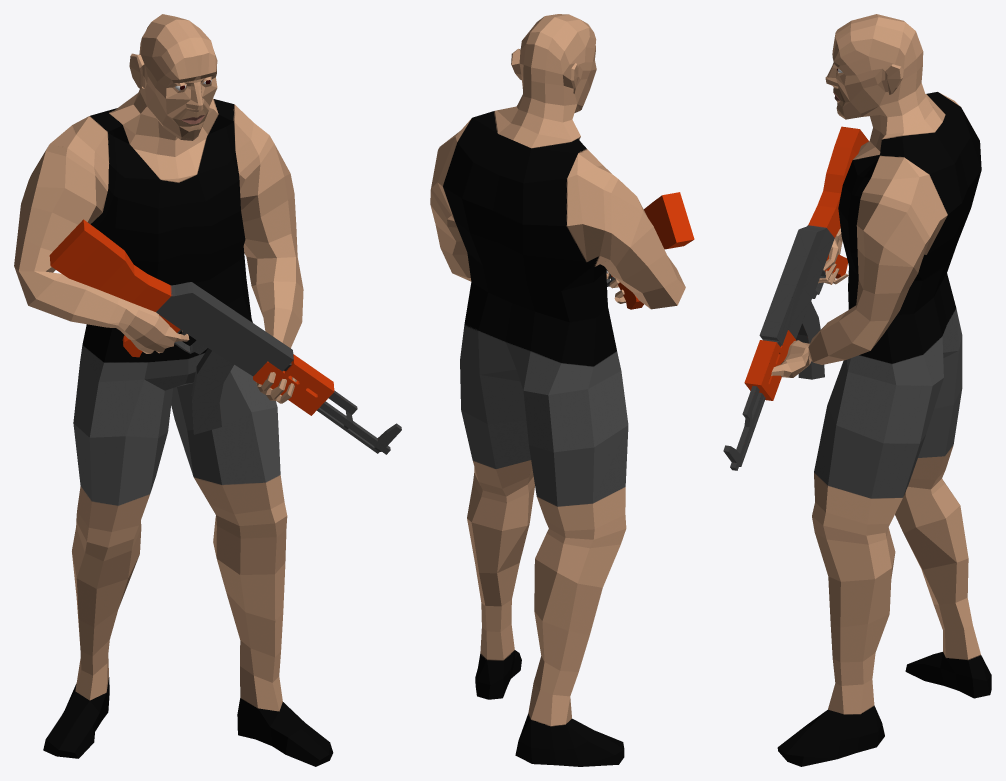
Rendered from PlayerIdle(35).obj.
3 renders of one model, left to right at view 1: azimuth 30°, elevation 25°; view 2: azimuth 150°, elevation 25°; view 3: azimuth 270°, elevation 25°, orthographic. The views are drawn at different scales.
Visible parts, largest first — view 1: Plane002, Object001; view 2: Plane002, Object001; view 3: Plane002, Object001.
Boxes of the visible parts, x1=… form: Plane002: x1=14, y1=14, x2=333, y2=766; Object001: x1=49, y1=219, x2=401, y2=454; Plane002: x1=430, y1=14, x2=685, y2=766; Object001: x1=606, y1=192, x2=694, y2=309; Plane002: x1=771, y1=14, x2=991, y2=766; Object001: x1=723, y1=126, x2=868, y2=470.
Bounding box in the file's own units: 748 × 1807 × 632.
